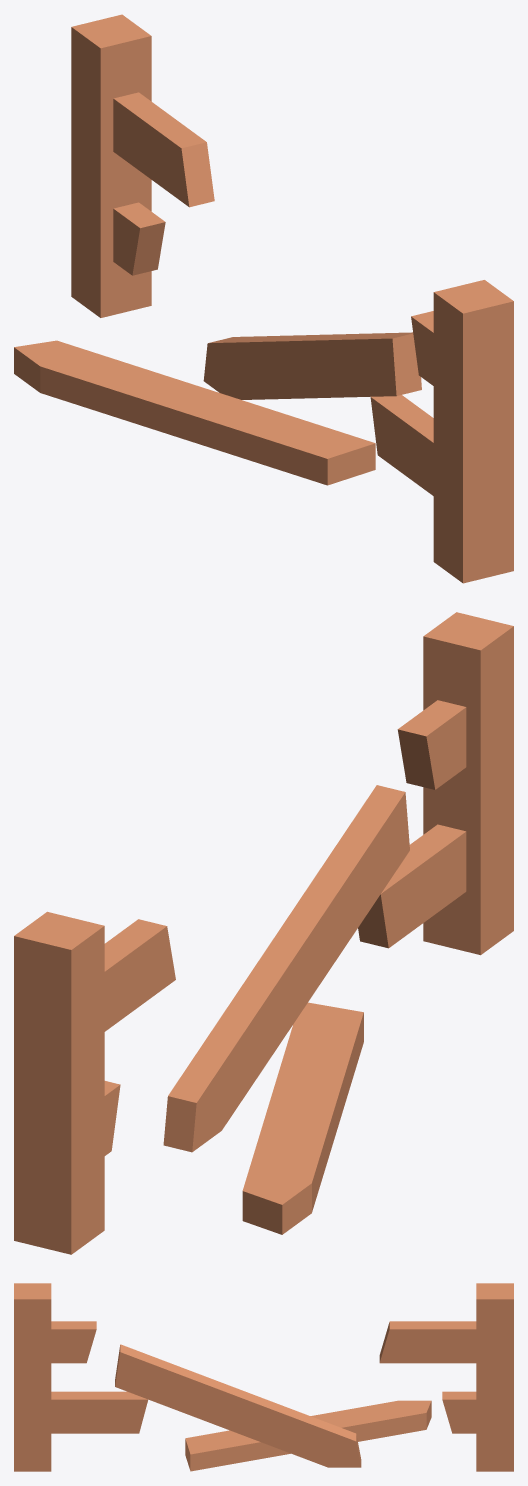
File: fenceBroken.obj
The picture shows the model from 3 angles, top to bottom: view 1: azimuth 30°, elevation 25°; view 2: azimuth 150°, elevation 25°; view 3: azimuth 270°, elevation 25°; orthographic projection. The views are drawn at different scales.
Parts seen in each view (by area): view 1: fenceBroken; view 2: fenceBroken; view 3: fenceBroken.
Boxes of the visible parts, box(x1,y1,x2,y2) form: fenceBroken: box(14, 14, 513, 583); fenceBroken: box(14, 612, 513, 1254); fenceBroken: box(14, 1283, 513, 1471).
Size of the model in its own units: 0.2547 by 0.38 by 1.
